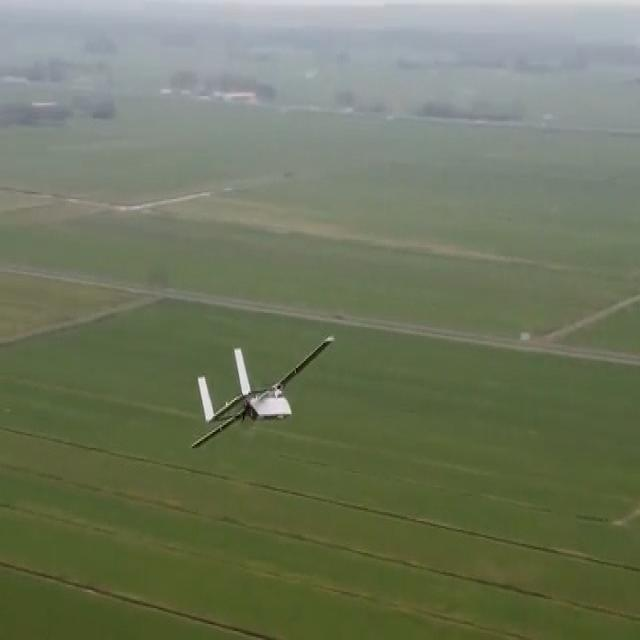iha: (181, 324, 331, 474)
